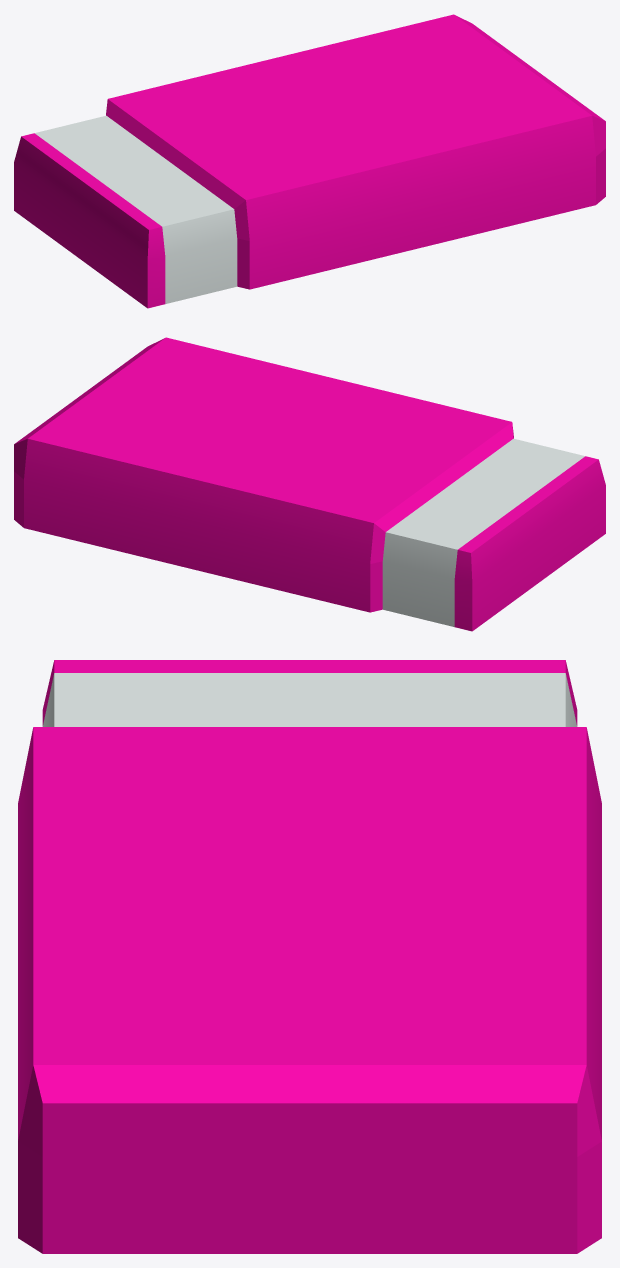
Rendered from bed_twin.fbx.
3 views of the same model, one above another, from view 1: azimuth 30°, elevation 25°; view 2: azimuth 150°, elevation 25°; view 3: azimuth 270°, elevation 25° (orthographic). The views are drawn at different scales.
Visible parts, largest first — view 1: pCube1; view 2: pCube1; view 3: pCube1.
Boxes of the visible parts, box(x1,y1,x2,y2) form: pCube1: box(14, 14, 605, 308); pCube1: box(14, 337, 605, 631); pCube1: box(18, 660, 601, 1253).
Size of the model in its own units: 6.37 by 1.15 by 3.51.
